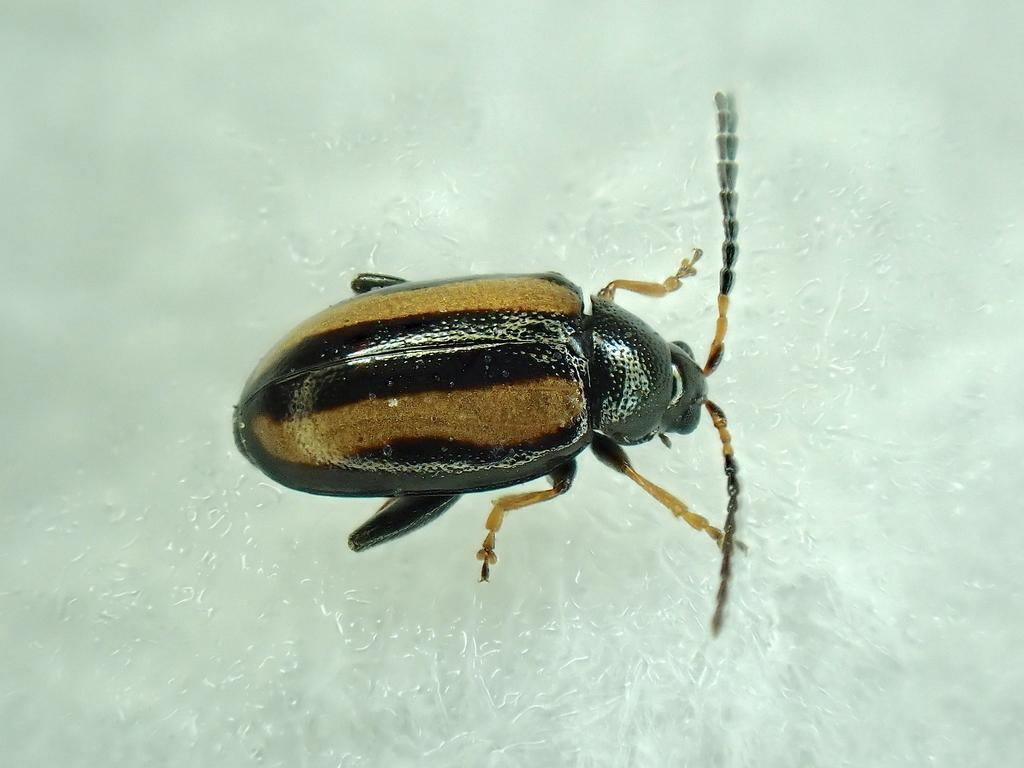flea_beetle: (199, 31, 836, 696)
